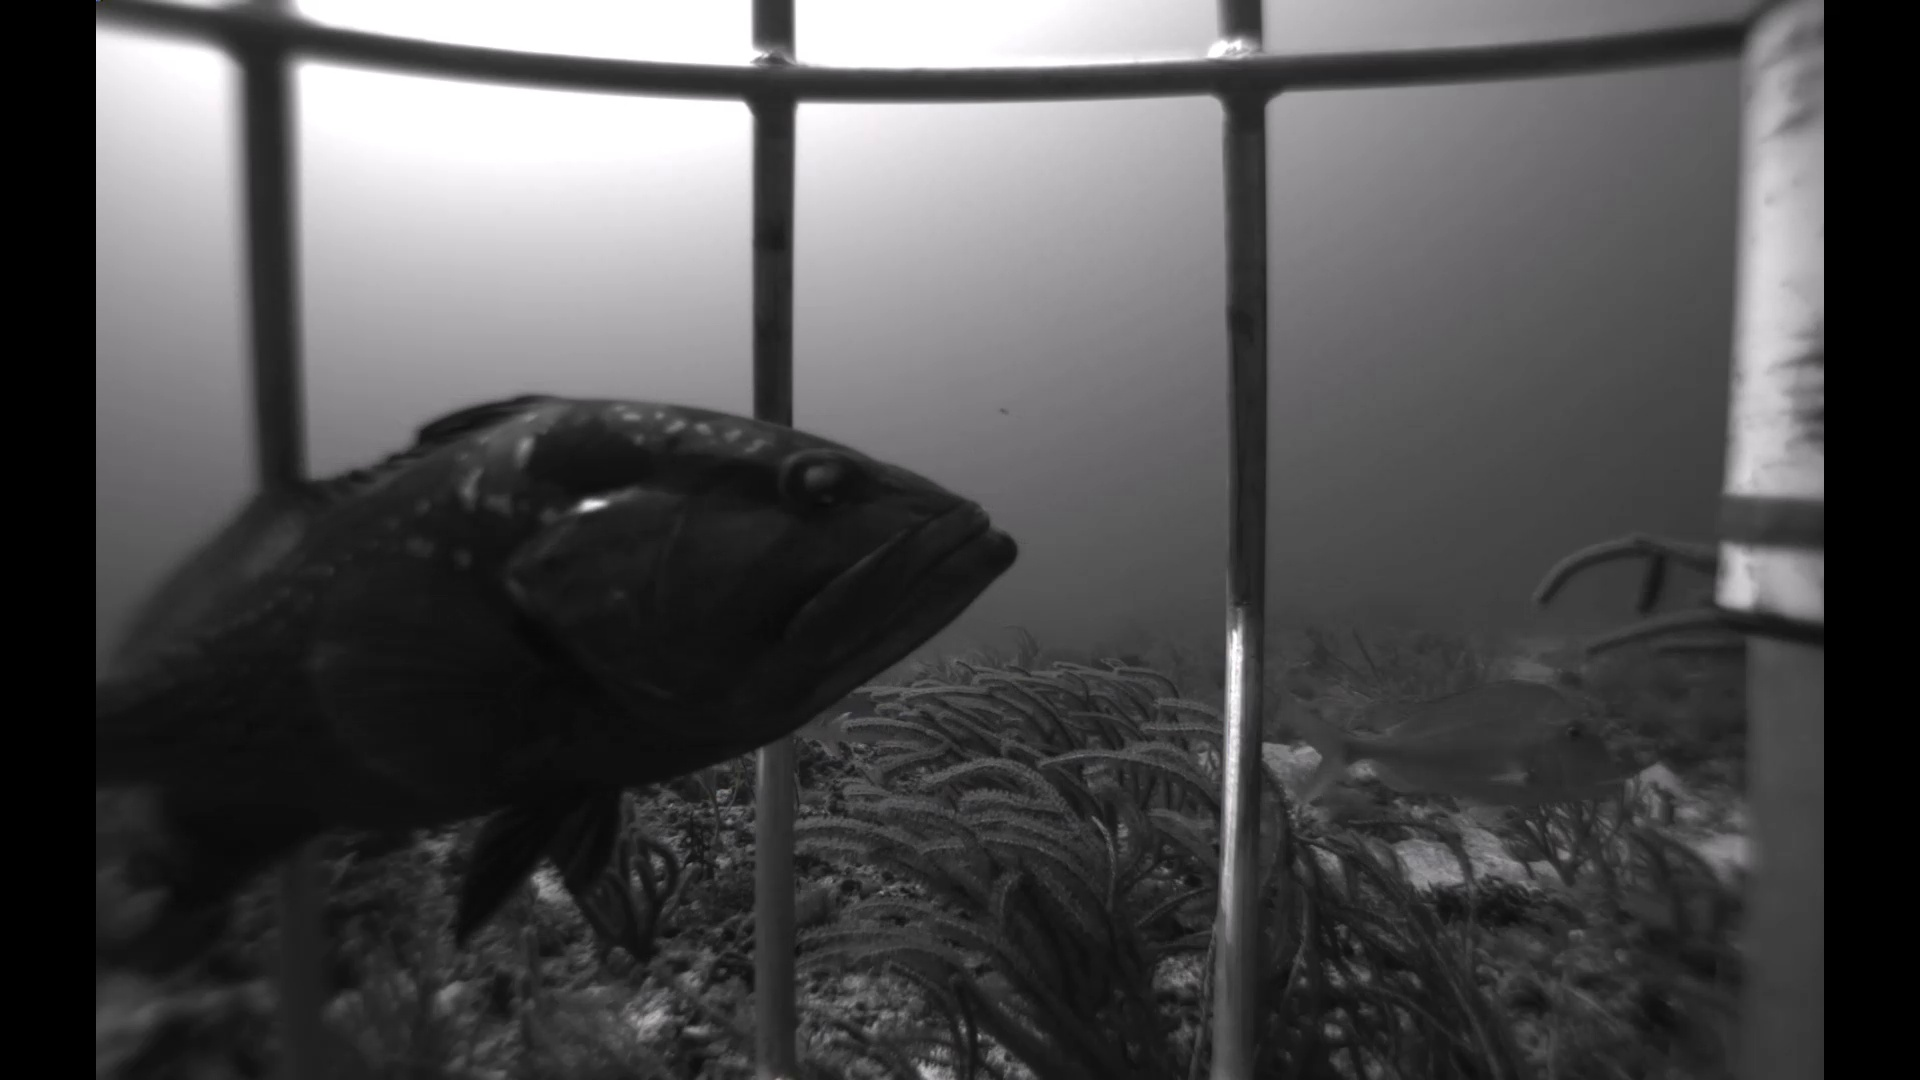CALAMUSNODOSUS-170210608: (1280, 659, 1638, 843)
EPINEPHELUSMORIO-170021211: (108, 375, 1054, 981)
LUTJANUSGRISEUS-170151109: (789, 691, 916, 769)
